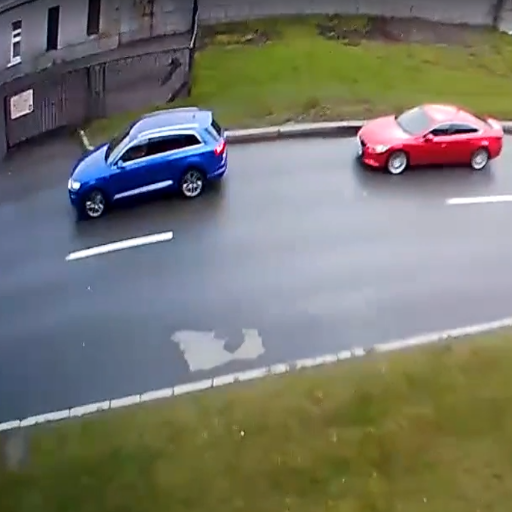Car: (63, 107, 222, 211), (353, 104, 502, 171)
